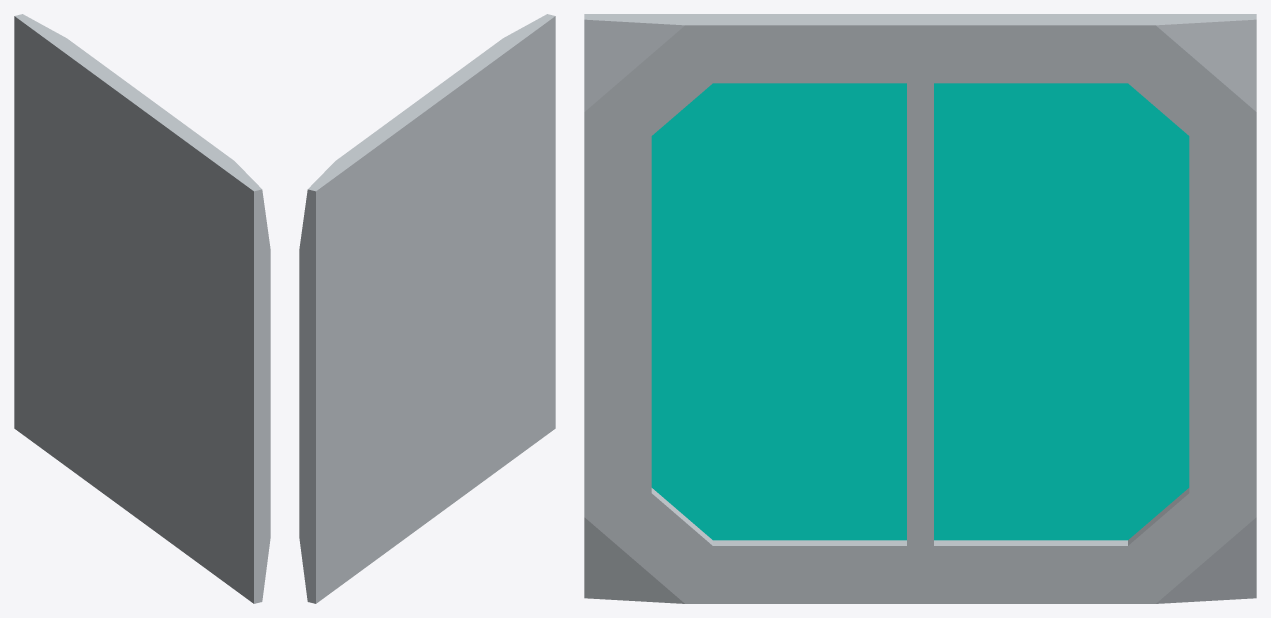
Rendered from wall-06b.fbx.
3 renders of one model, left to right at view 1: azimuth 30°, elevation 25°; view 2: azimuth 150°, elevation 25°; view 3: azimuth 270°, elevation 25°, orthographic. The views are drawn at different scales.
Visible parts, largest first — view 1: wall-06b; view 2: wall-06b; view 3: wall-06b.
Boxes of the visible parts, x1,y1,x2,y2 form: wall-06b: (14, 14, 270, 603); wall-06b: (299, 14, 555, 603); wall-06b: (584, 14, 1256, 603).
Size of the model in its own units: 4 by 95 by 100.
